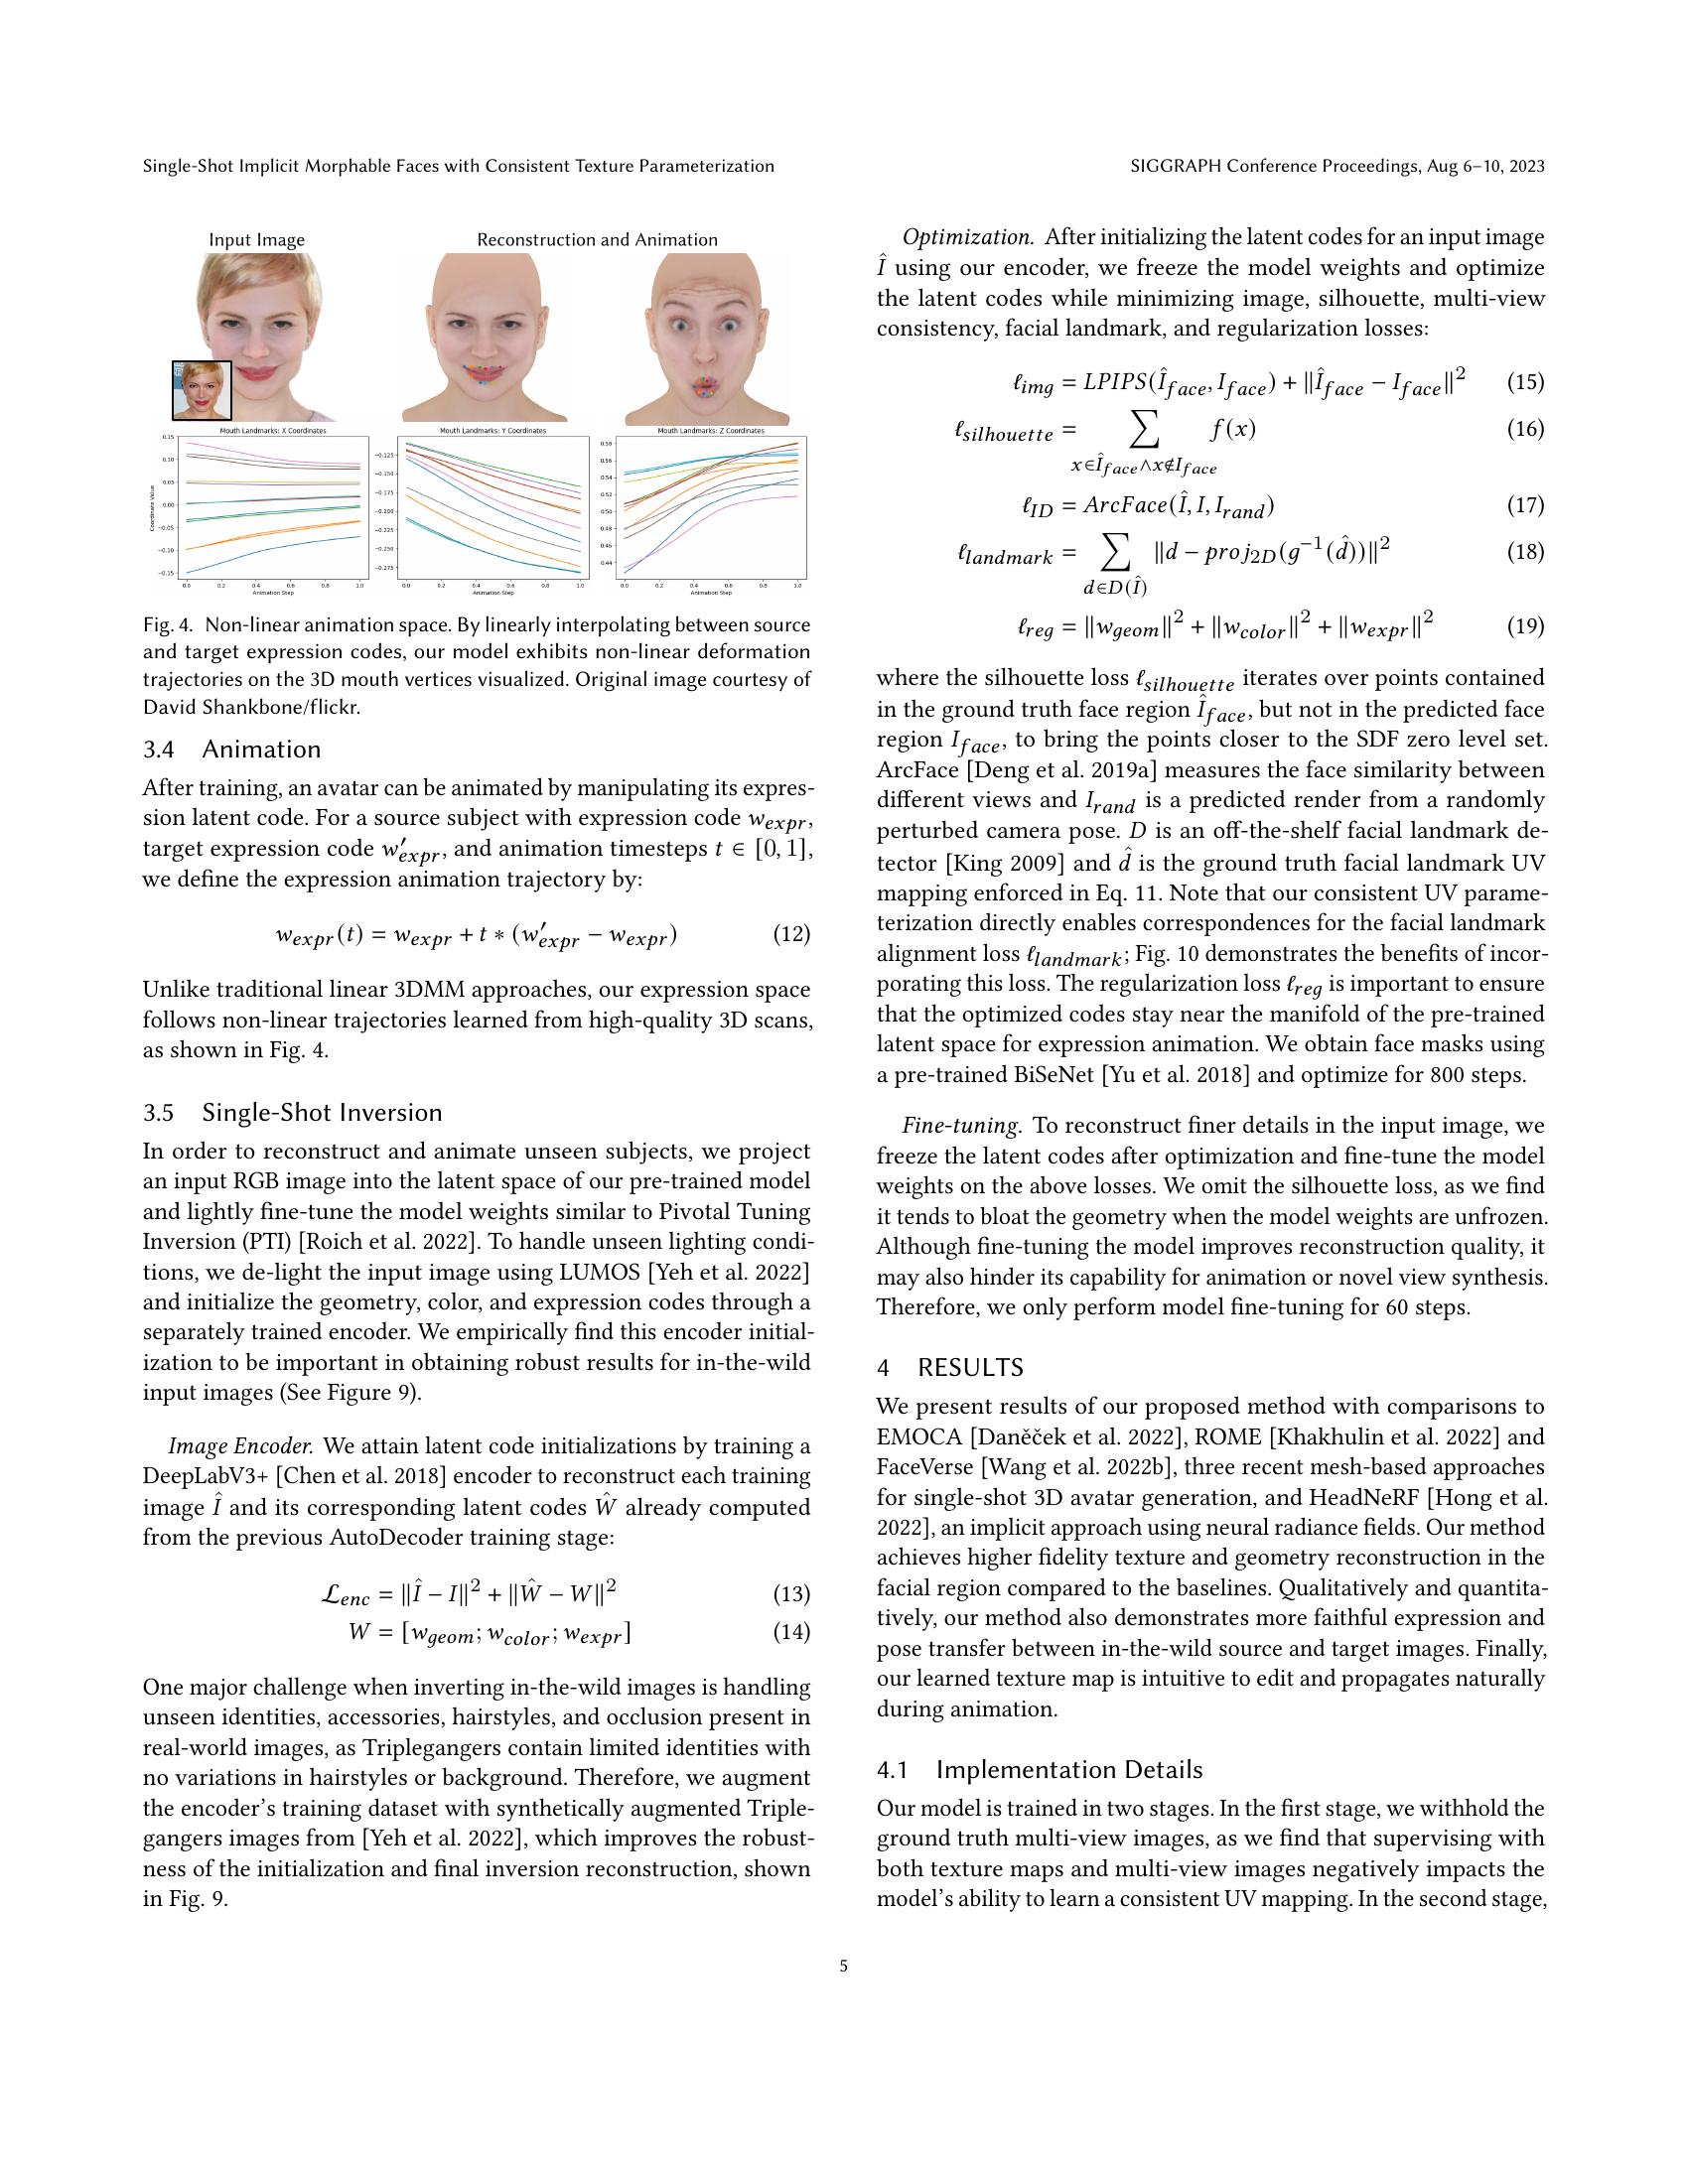figure: (137, 223, 819, 723)
text: (865, 1349, 1555, 1918), (133, 1429, 821, 1922), (865, 661, 1555, 1096), (865, 220, 1555, 651), (133, 730, 821, 1071), (133, 1094, 821, 1416), (865, 1108, 1555, 1326)
